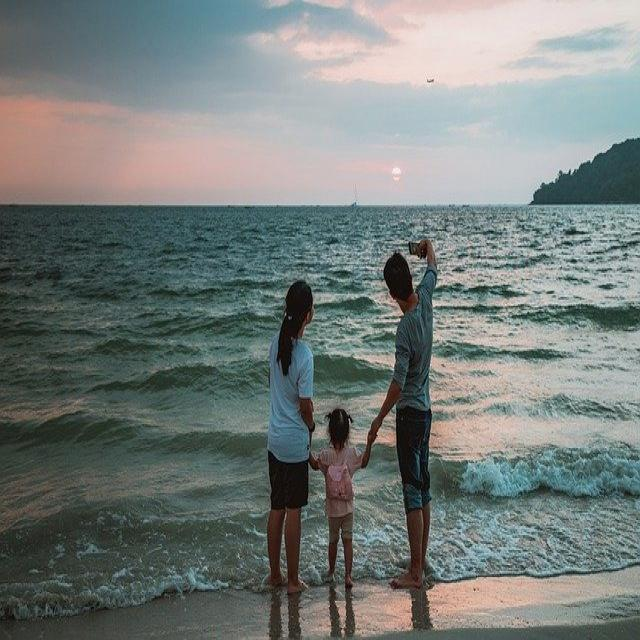adult: (373, 235, 440, 590), (266, 280, 317, 599)
child: (309, 406, 380, 588)
